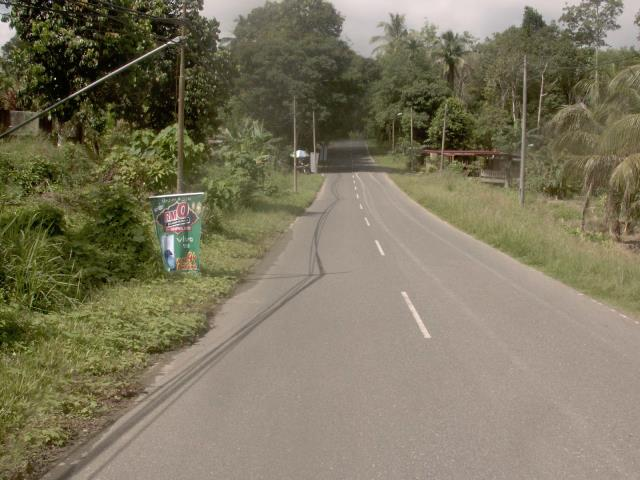ads_sign: (145, 184, 211, 289)
